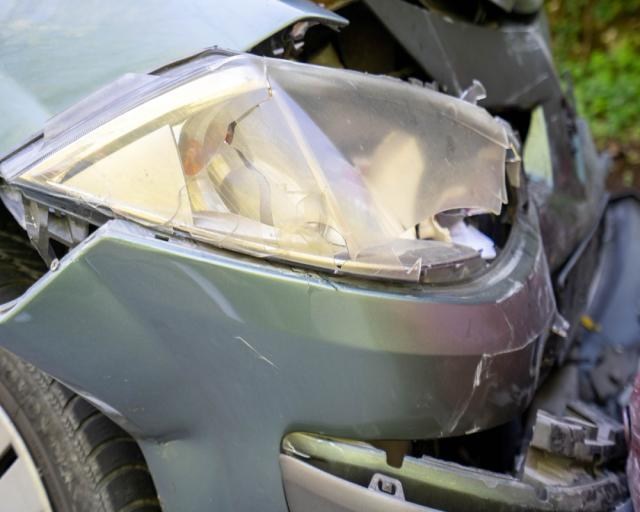dent: (109, 413, 209, 469)
lamp broken: (5, 54, 523, 281)
